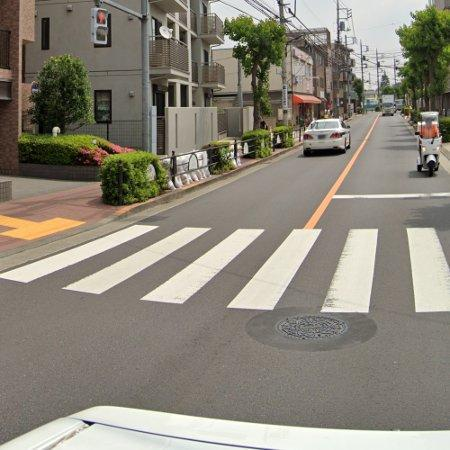crosswalks: (4, 217, 450, 323)
